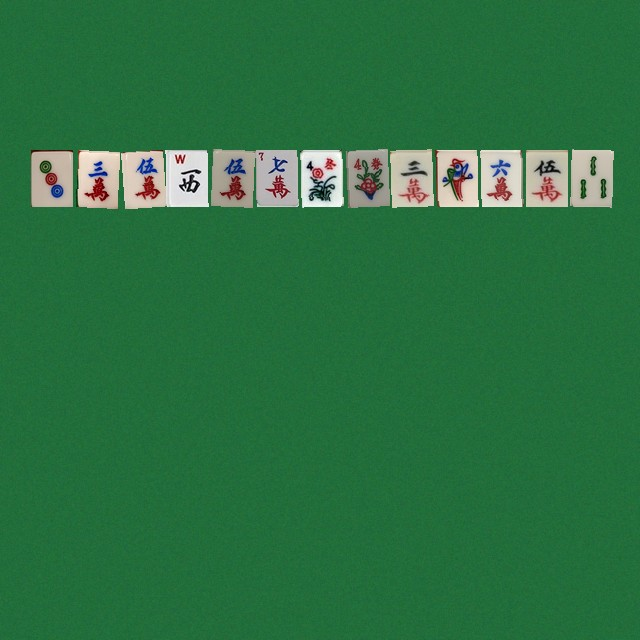tile: (30, 149, 72, 206), (75, 149, 117, 206), (120, 149, 162, 206), (165, 149, 207, 206), (210, 149, 252, 206), (255, 149, 297, 206), (300, 149, 342, 206), (345, 149, 387, 206), (390, 149, 432, 206), (435, 149, 477, 206), (480, 149, 522, 206), (525, 149, 567, 206), (570, 149, 612, 206)
